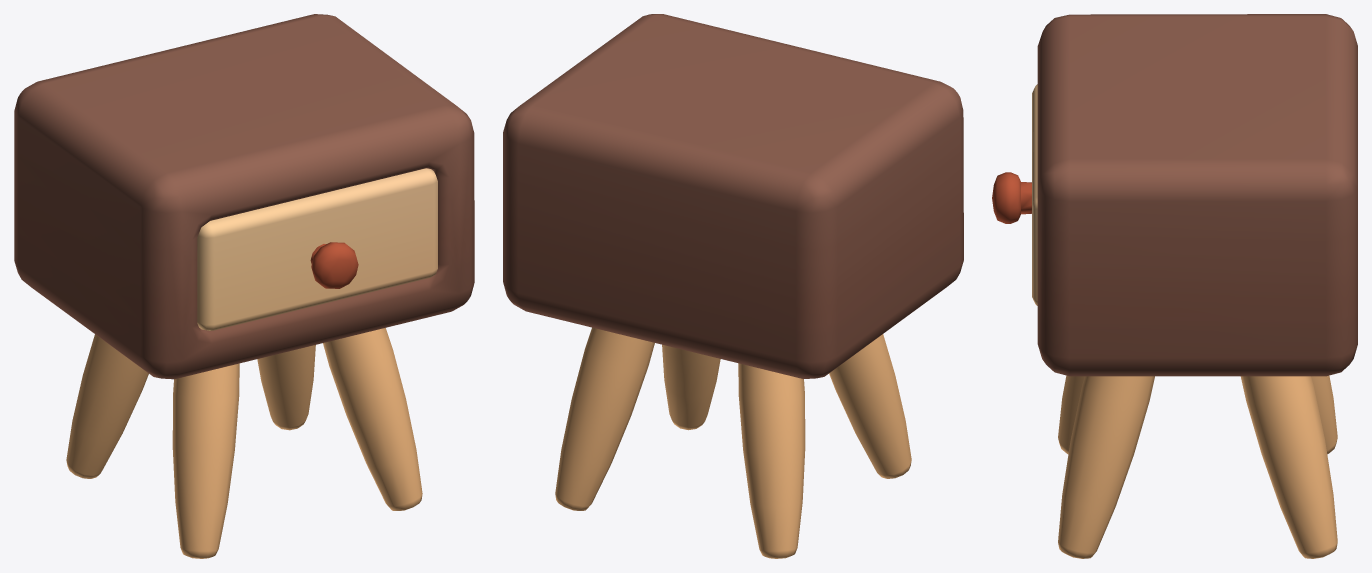
File: cute-furniture-glb-nightstand-02.glb
The picture shows the model from 3 angles, left to right: view 1: azimuth 30°, elevation 25°; view 2: azimuth 150°, elevation 25°; view 3: azimuth 270°, elevation 25°; orthographic projection. The views are drawn at different scales.
Parts seen in each view (by area): view 1: Nightstand_02, Nightstand_02_Door; view 2: Nightstand_02; view 3: Nightstand_02, Nightstand_02_Door.
Part boxes in pixels (<box>): Nightstand_02: <box>14,14,474,558</box>; Nightstand_02_Door: <box>197,168,437,330</box>; Nightstand_02: <box>503,14,963,558</box>; Nightstand_02: <box>1037,14,1357,558</box>; Nightstand_02_Door: <box>992,84,1037,305</box>.
Size of the model in its own units: 0.5 by 0.575 by 0.4572.
Materials: 1 (1 with a texture image).
